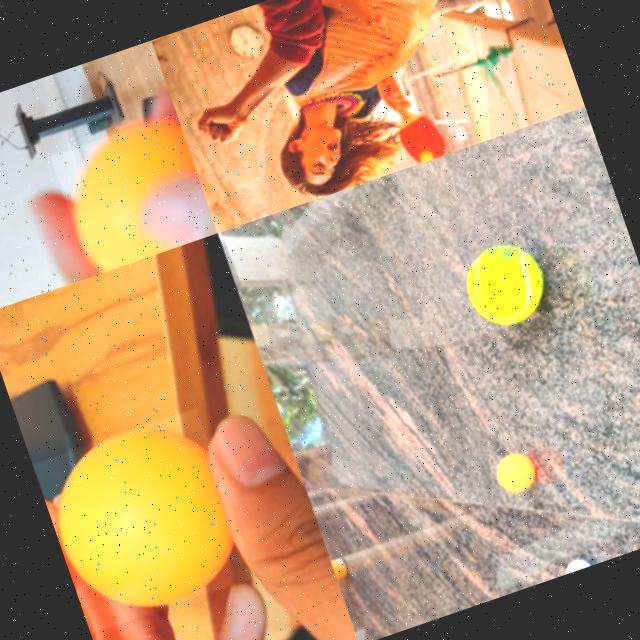ping-pong-ball: (32, 406, 255, 634), (48, 111, 215, 276), (489, 448, 539, 498), (418, 148, 433, 162)
